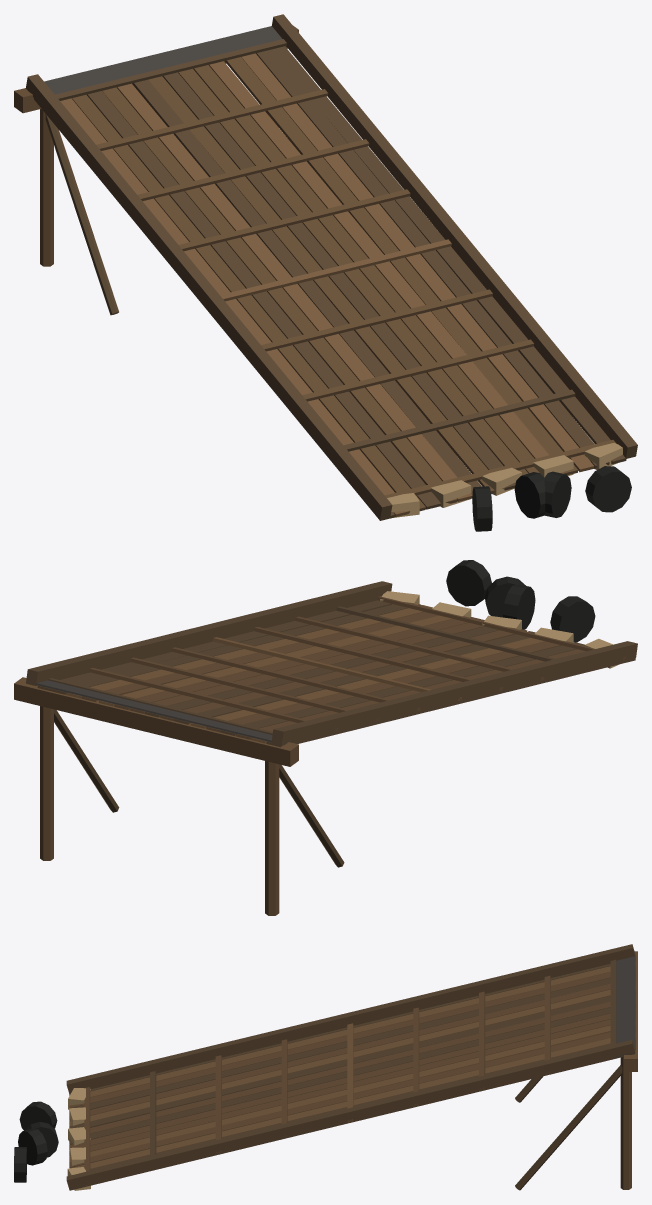
File: NorthRamp.glb
The picture shows the model from 3 angles, top to bottom: view 1: azimuth 30°, elevation 25°; view 2: azimuth 150°, elevation 25°; view 3: azimuth 270°, elevation 25°; orthographic projection. The views are drawn at different scales.
Visible parts, largest first — view 1: NorthRamp.001; view 2: NorthRamp.001; view 3: NorthRamp.001.
Part boxes in pixels (bbox=[...]): NorthRamp.001: bbox=[14, 14, 637, 531]; NorthRamp.001: bbox=[14, 560, 637, 915]; NorthRamp.001: bbox=[14, 944, 637, 1190].
Size of the model in its own units: 5.4 by 3.75 by 13.23.
